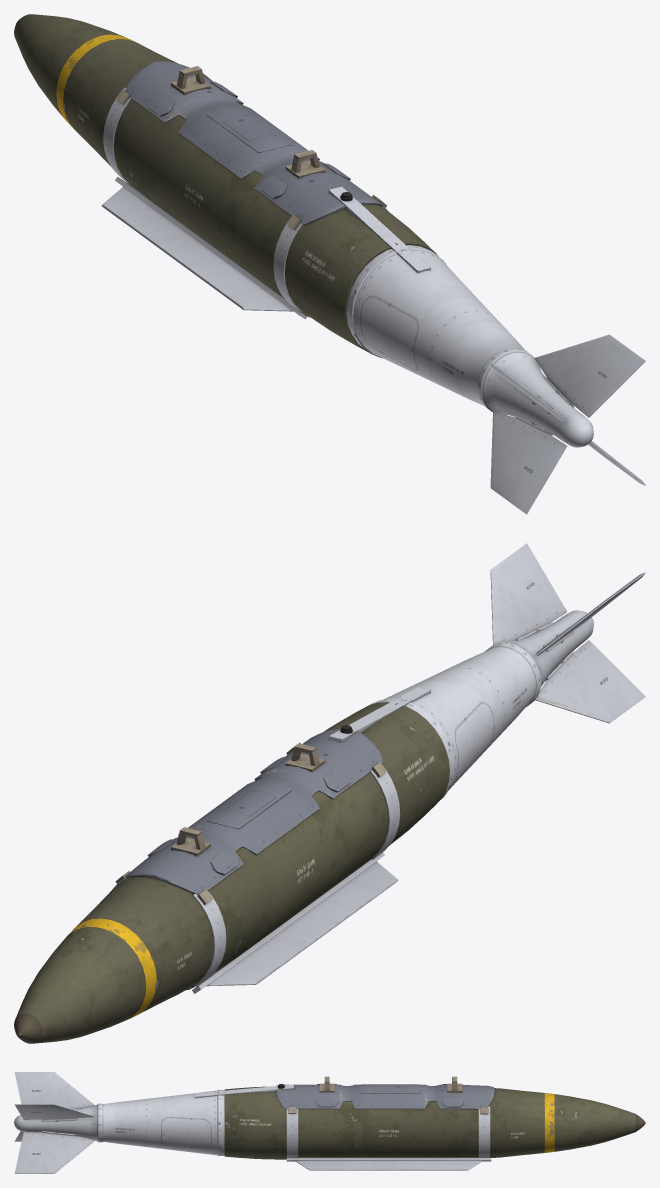
The model's file is gbu31.glb.
The picture shows the model from 3 angles, top to bottom: view 1: azimuth 30°, elevation 25°; view 2: azimuth 150°, elevation 25°; view 3: azimuth 270°, elevation 25°; orthographic projection. The views are drawn at different scales.
Parts seen in each view (by area): view 1: G31_body, G31_tail, G31_saddle, G31_strakes, fin3, fin1; view 2: G31_body, G31_saddle, G31_tail, G31_strakes, fin3, fin1, fin2; view 3: G31_body, G31_tail, G31_saddle, G31_strakes, fin4, fin2, fin1.
Boxes of the visible parts, x1,y1,x2,y2 form: G31_body: (14, 14, 438, 352); G31_tail: (346, 245, 593, 447); G31_saddle: (125, 61, 430, 272); G31_strakes: (101, 73, 388, 319); fin3: (490, 411, 567, 514); fin1: (534, 334, 645, 417); G31_body: (14, 702, 449, 1043); G31_saddle: (125, 687, 430, 894); G31_tail: (370, 610, 593, 799); G31_strakes: (111, 742, 400, 993); fin3: (535, 640, 645, 723); fin1: (490, 543, 567, 645); fin2: (534, 572, 645, 656); G31_body: (224, 1086, 645, 1159); G31_tail: (14, 1089, 224, 1156); G31_saddle: (194, 1076, 494, 1109); G31_strakes: (286, 1106, 491, 1170); fin4: (14, 1132, 94, 1173); fin2: (14, 1072, 94, 1109); fin1: (14, 1104, 95, 1119).
Bounding box in the file's own units: 0.6091 × 0.5326 × 3.88.
1 material, 1 textured.
